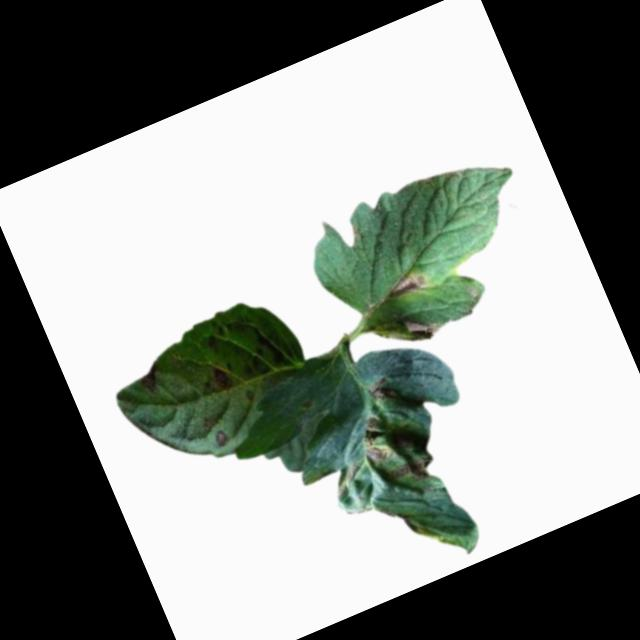Early_blight: (353, 413, 395, 465), (390, 451, 439, 491), (386, 267, 431, 304), (400, 309, 442, 347), (362, 374, 397, 404), (207, 363, 235, 396), (137, 364, 165, 397), (210, 426, 231, 448)
